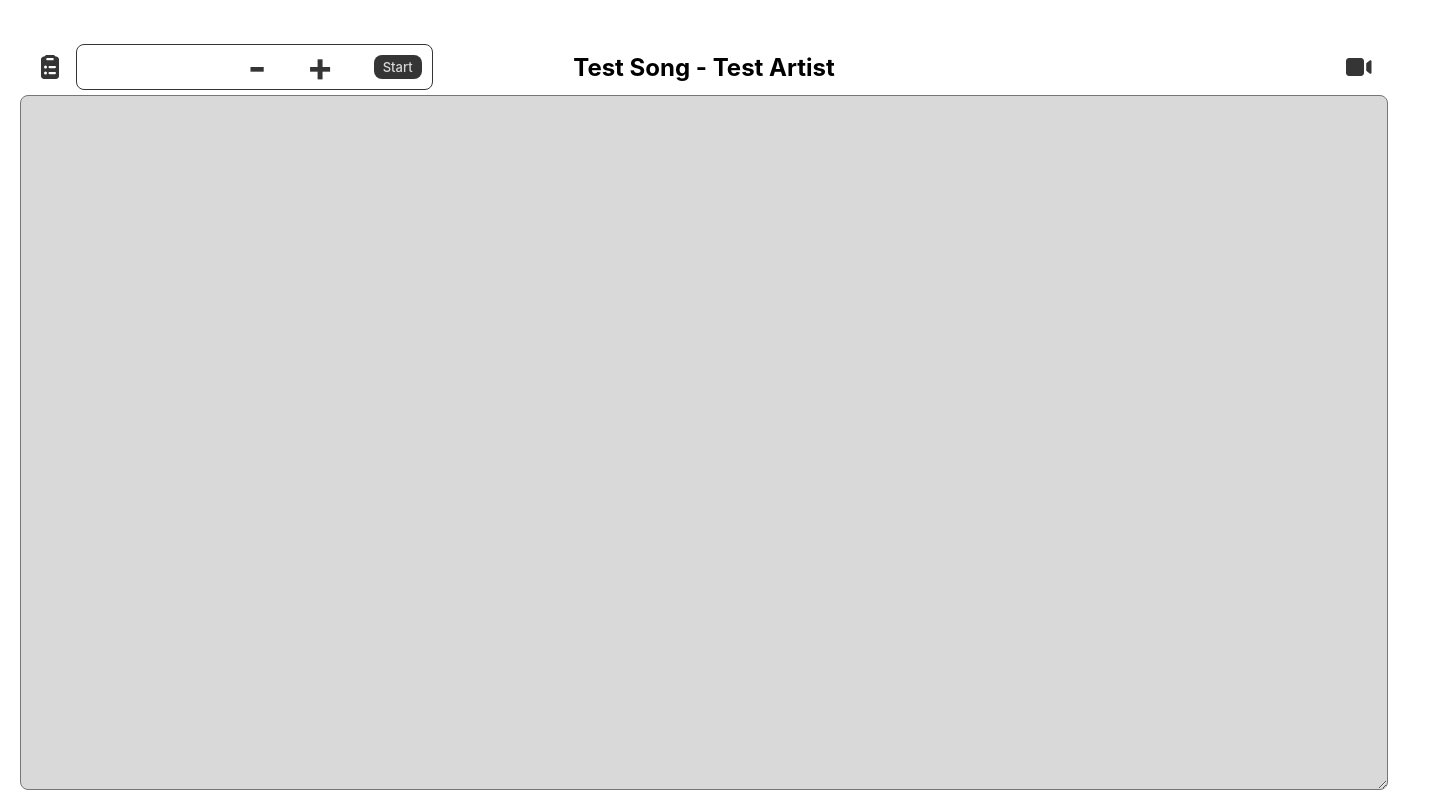
Scenario: SongDisplay › Video Panel › shows no videos message when no videos available
Click the 2nd picture at [1358, 67], box [1338,50,1378,84]
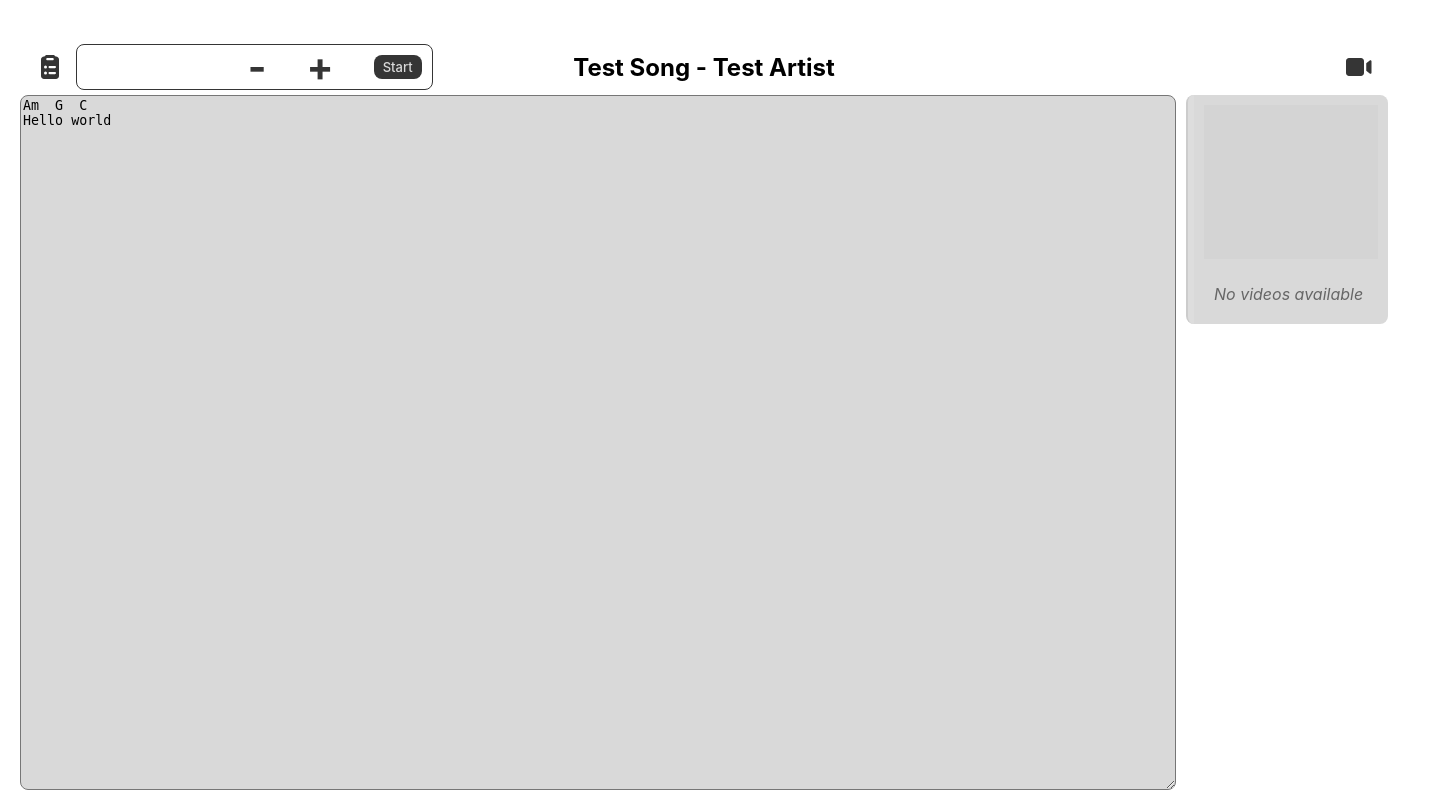
Now the text "No videos available" is shown, box [1214,284,1363,304]
